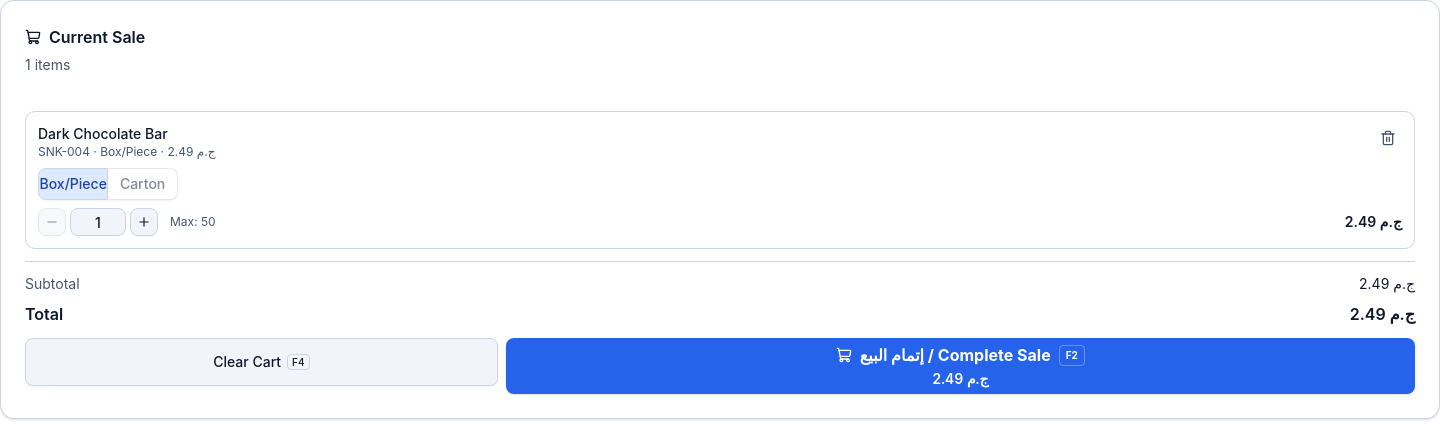
Scenario: CartSummary · checkout button › locks the checkout button while committing, then clears the cart and mirrors stock
The width and height of the screenshot is (1440, 437).
Click the button "إتمام البيع / Complete Sale F2 2.49 ج.م".
click(960, 366)  # box left=506, top=338, right=1415, bottom=394
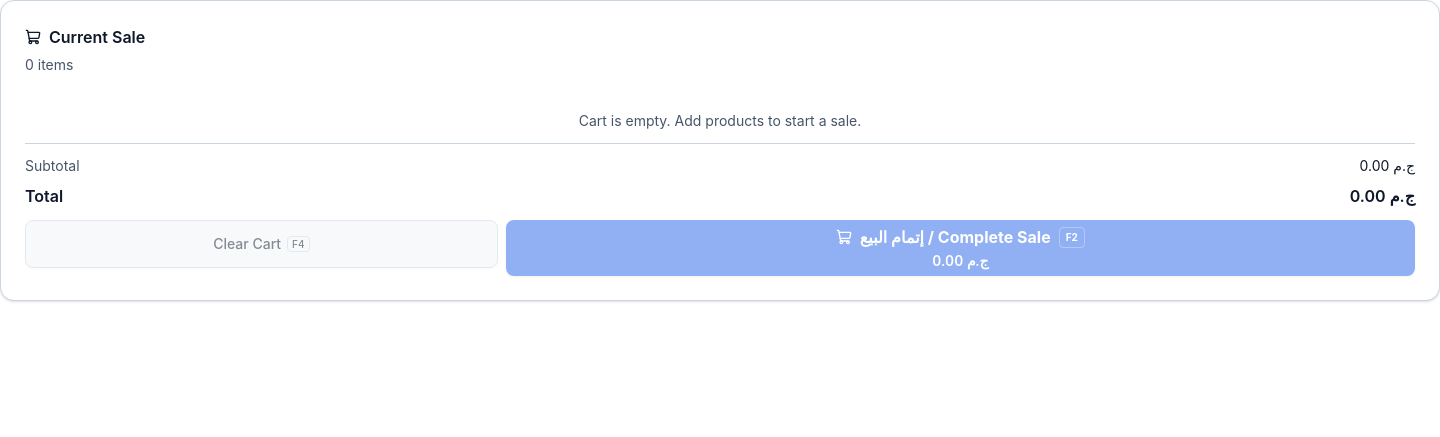
Now the button named "جارٍ إتمام البيع... / Processing..." is disabled, box left=506, top=220, right=1415, bottom=276
